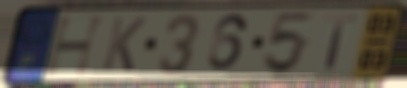3: (157, 11, 202, 78)
5: (262, 10, 320, 75)
6: (206, 12, 250, 75)
H: (41, 13, 110, 78)
K: (99, 15, 149, 75)
T: (322, 12, 359, 71)
